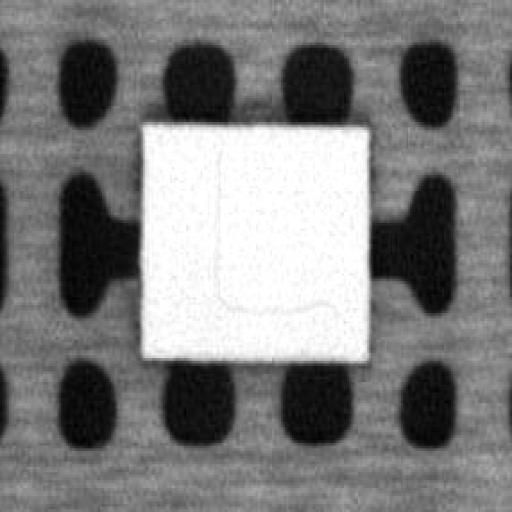DIE_CRACK: (210, 146, 336, 316)
